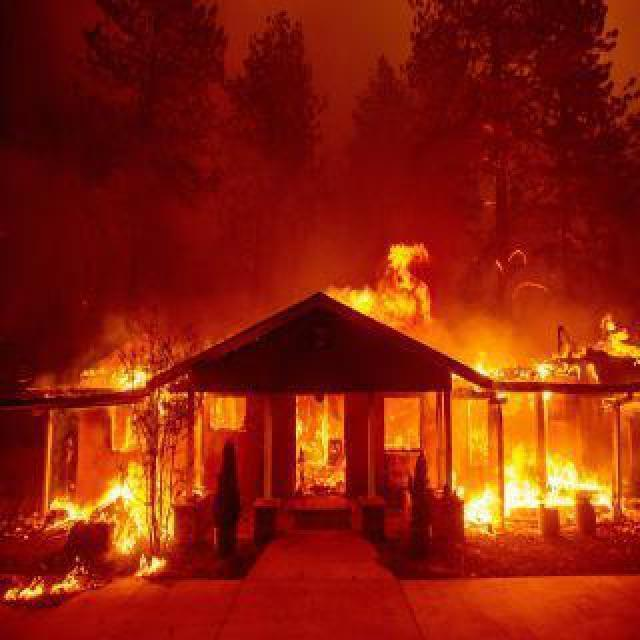Fire: (476, 342, 568, 410), (82, 474, 152, 548), (386, 244, 430, 328), (4, 564, 84, 610), (576, 464, 628, 524), (300, 420, 342, 490), (494, 464, 542, 520), (44, 476, 86, 538), (458, 472, 502, 528), (594, 310, 636, 364), (342, 278, 384, 326), (544, 442, 584, 488), (116, 364, 150, 402), (130, 554, 170, 586)
